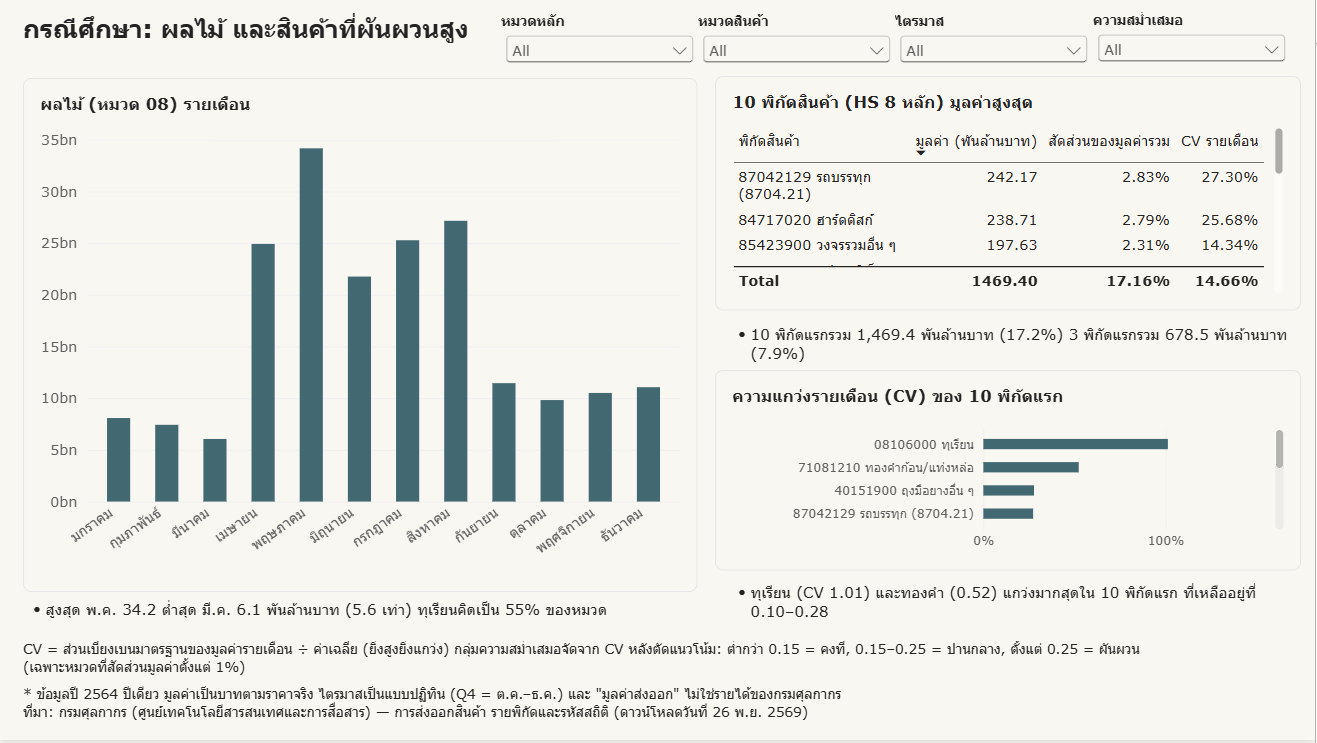

The page's visual inventory and layout, read from the dashboard file:
{"tool":"powerbi","page":{"name":"3 เจาะรายพิกัด","canvas":[1280,720],"ordinal":2},"visuals":[{"type":"textbox","box":[23.8,12.5,450,47.5],"z":0},{"type":"slicer","title":"หมวดหลัก","fields":{"Values":["dim_hs_chapter.section_name_th"]},"box":[488.8,12.5,192,48],"z":1000},{"type":"slicer","title":"หมวดสินค้า","fields":{"Values":["dim_hs_chapter.Chapter Label"]},"box":[680,12.5,192,48],"z":2000},{"type":"slicer","title":"ไตรมาส","fields":{"Values":["dim_month.quarter_label"]},"box":[871.2,12.5,192,48],"z":3000},{"type":"slicer","title":"ความสม่ำเสมอ","fields":{"Values":["summary_chapter_stability.stability_class"]},"box":[1064,12,192,48],"z":4000},{"type":"clusteredColumnChart","title":"ผลไม้ (หมวด 08) รายเดือน","fields":{"Category":["dim_month.month_name_th"],"Y":["_Measure.Total Export THB"]},"box":[23.8,76.2,656.2,500],"z":5000},{"type":"textbox","box":[23.8,583.8,610,27.5],"z":6000},{"type":"barChart","title":"ความแกว่งรายเดือน (CV) ของ 10 พิกัดแรก","fields":{"Category":["dim_product.HS8 Label"],"Y":["_Measure.Item CV"]},"box":[696.2,360,570,195],"z":7000},{"type":"textbox","box":[708.8,567.5,547.5,43.8],"z":8000},{"type":"tableEx","title":"10 พิกัดสินค้า (HS 8 หลัก) มูลค่าสูงสุด","fields":{"Values":["dim_product.HS8 Label","_Measure.Total Export (พันล้านบาท)","_Measure.Share of Total %","_Measure.Item CV"]},"box":[696.2,73.8,570,227.5],"z":9000},{"type":"textbox","box":[23.8,666.2,900,43.8],"z":10000},{"type":"textbox","box":[708.8,316.2,557.5,43.8],"z":11000},{"type":"textbox","box":[23.8,622.5,1096.2,33.8],"z":12000}]}

Visuals, with their boxes in screenshot pixels (x1, y1, x2, y2), scaled from the page's 1280x720 canvas onto the 1317x743 screenshot:
textbox: 24 13 487 62
"หมวดหลัก" slicer: 503 13 700 62
"หมวดสินค้า" slicer: 700 13 897 62
"ไตรมาส" slicer: 896 13 1094 62
"ความสม่ำเสมอ" slicer: 1095 12 1292 62
"ผลไม้ (หมวด 08) รายเดือน" clusteredColumnChart: 24 79 700 595
textbox: 24 602 652 631
"ความแกว่งรายเดือน (CV) ของ 10 พิกัดแรก" barChart: 716 372 1303 573
textbox: 729 586 1293 631
"10 พิกัดสินค้า (HS 8 หลัก) มูลค่าสูงสุด" tableEx: 716 76 1303 311
textbox: 24 687 951 733
textbox: 729 326 1303 372
textbox: 24 642 1152 677
